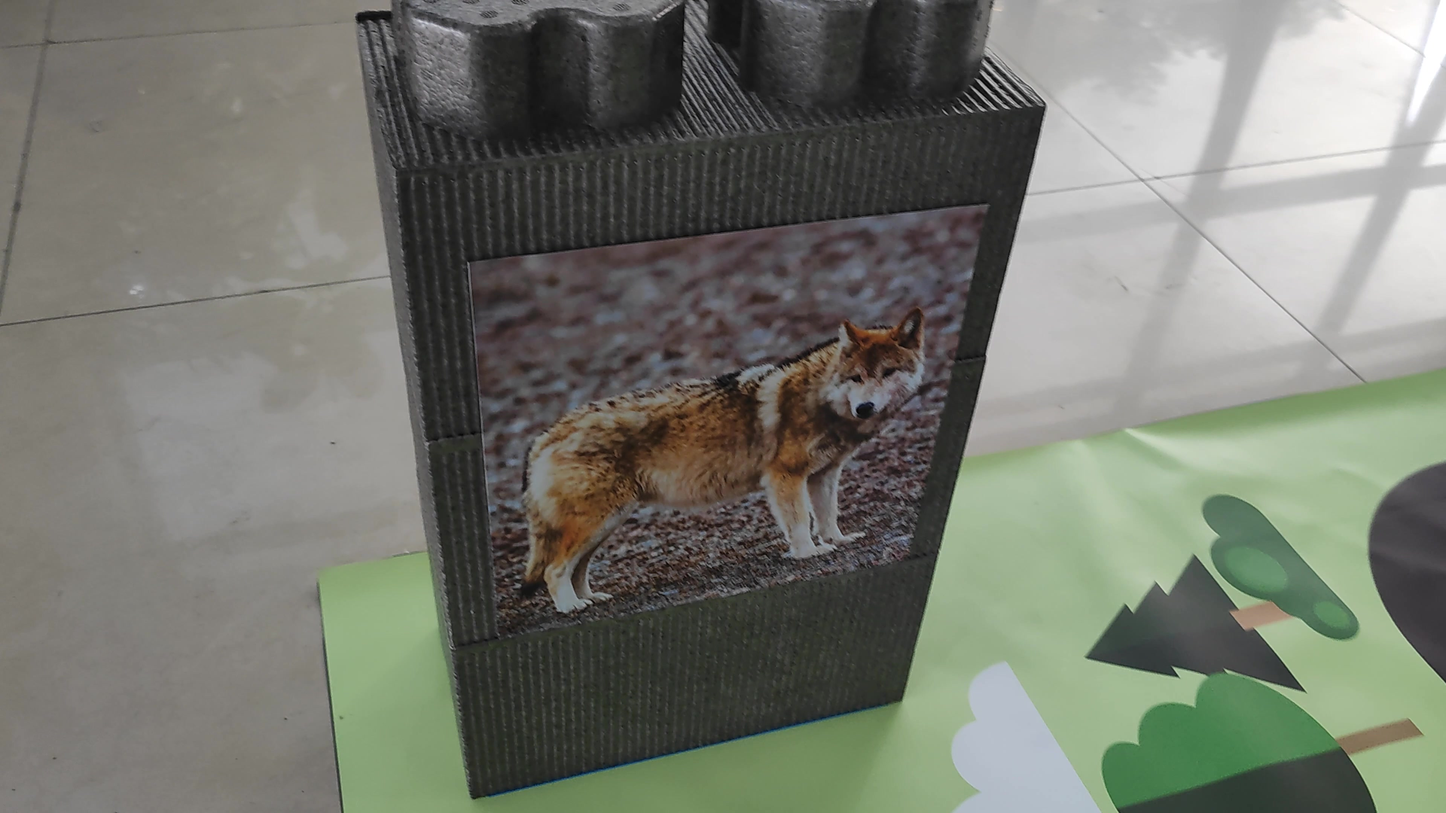wolf: (470, 280, 930, 617)
